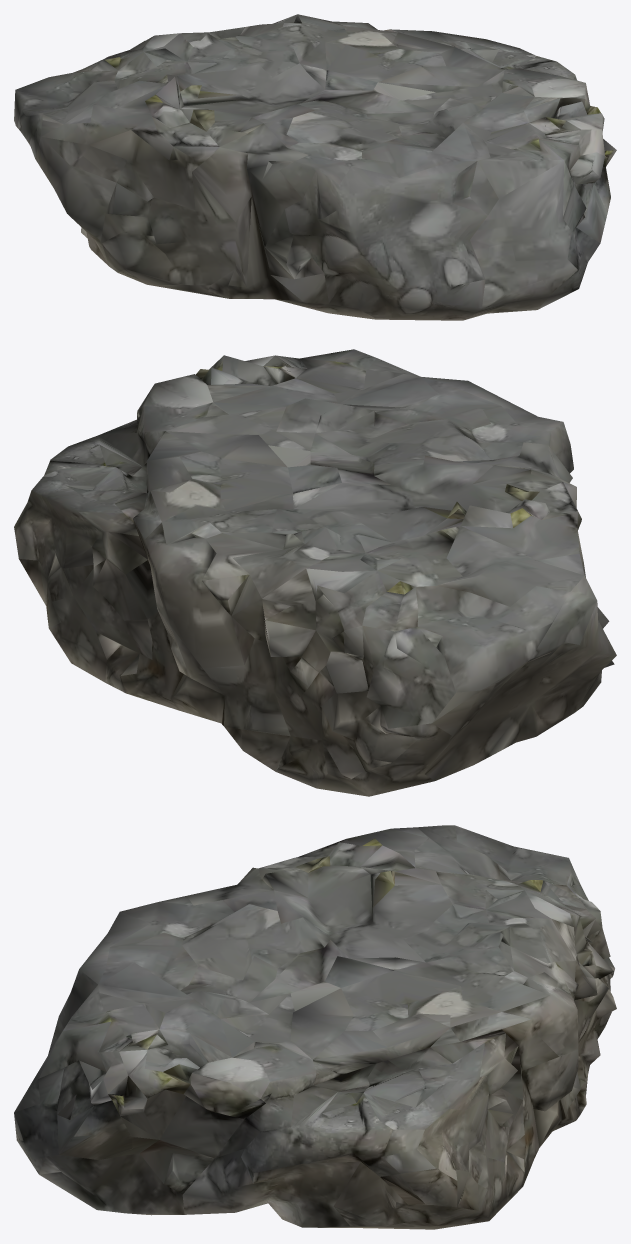
Rendered from rock-temperate-slab.glb.
3 renders of one model, top to bottom at view 1: azimuth 30°, elevation 25°; view 2: azimuth 150°, elevation 25°; view 3: azimuth 270°, elevation 25°, orthographic. The views are drawn at different scales.
Visible parts, largest first — view 1: tripo_node_72744aaa-efa8-4945-9469-8c6e5f67429e; view 2: tripo_node_72744aaa-efa8-4945-9469-8c6e5f67429e; view 3: tripo_node_72744aaa-efa8-4945-9469-8c6e5f67429e.
Part boxes in pixels (left/top/right/bottom): tripo_node_72744aaa-efa8-4945-9469-8c6e5f67429e: left=14, top=14, right=616, bottom=320; tripo_node_72744aaa-efa8-4945-9469-8c6e5f67429e: left=14, top=349, right=616, bottom=796; tripo_node_72744aaa-efa8-4945-9469-8c6e5f67429e: left=14, top=825, right=616, bottom=1229.
Bounding box in the file's own units: 1.22 × 0.45 × 1.13.
Materials: 1 (1 with a texture image).
